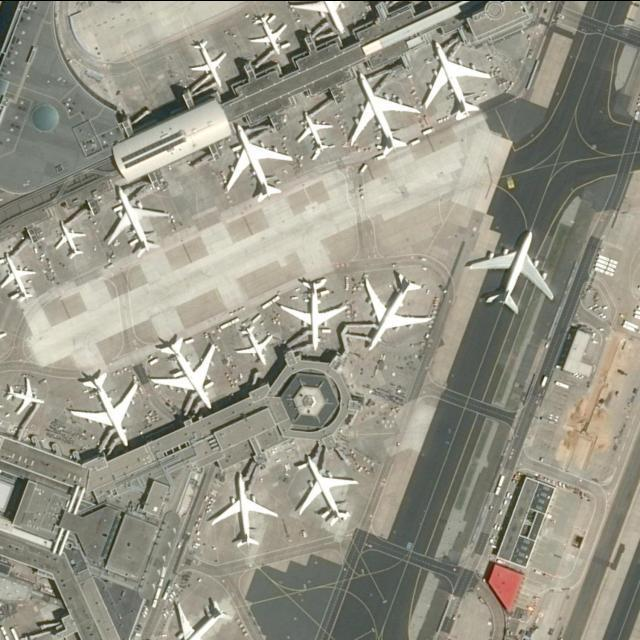Aircraft: (463, 225, 557, 317), (345, 66, 421, 158), (357, 264, 431, 352), (219, 118, 293, 202), (207, 467, 281, 549), (420, 38, 492, 122), (66, 366, 139, 446), (276, 273, 350, 351), (148, 330, 218, 412), (294, 448, 361, 529), (103, 182, 171, 258), (157, 594, 233, 640), (187, 33, 229, 89), (283, 0, 353, 32), (293, 107, 333, 161), (1, 248, 37, 302), (247, 10, 288, 57), (233, 321, 273, 366), (3, 373, 45, 415), (51, 216, 85, 260)
